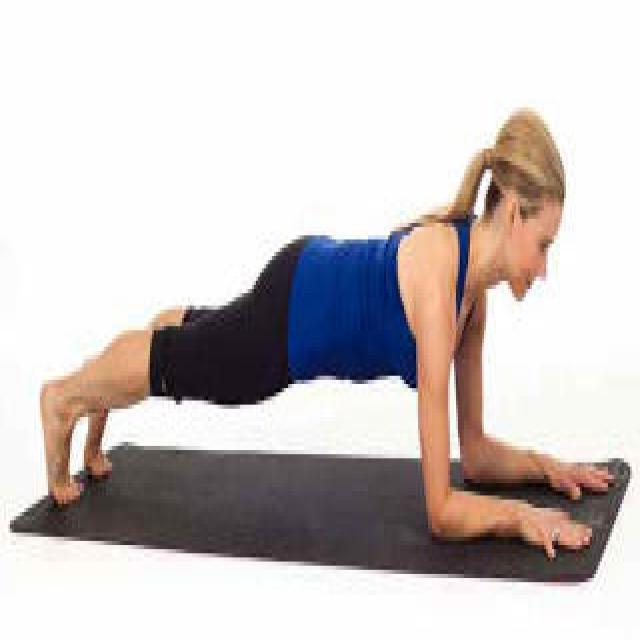yoga-pose plank: (36, 92, 605, 551)
